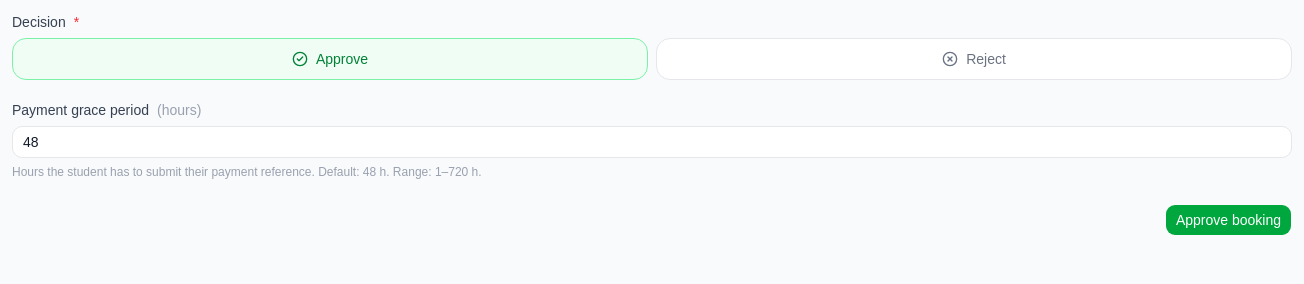
Scenario: ActionBookingForm › blocks submission and shows an error when rejecting without a reason
This screenshot has width=1304, height=284.
Click the button "Reject". click: click(974, 59)
box: [656,38,1292,80]
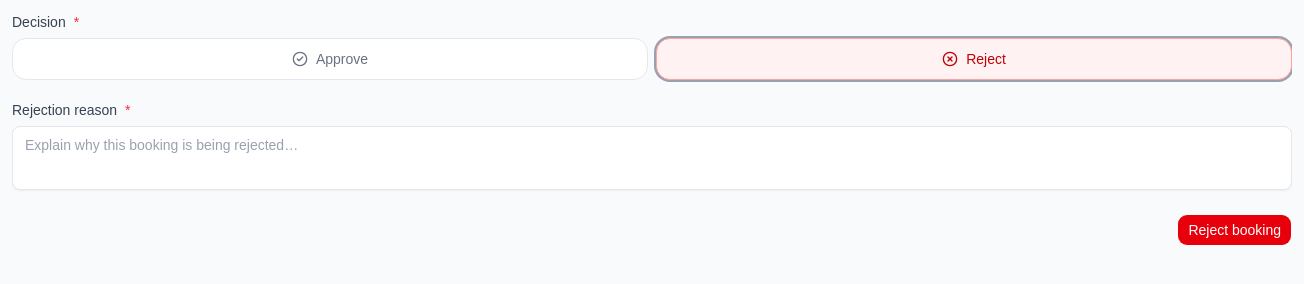
Click the button "Reject booking". click: click(1235, 230)
box: [1177,214,1292,246]
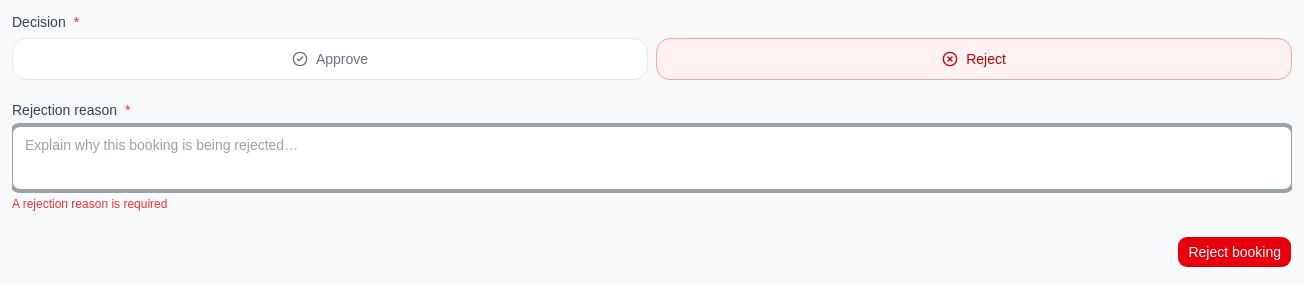
Result: the text "A rejection reason is required" is shown at [12,197,167,211]
